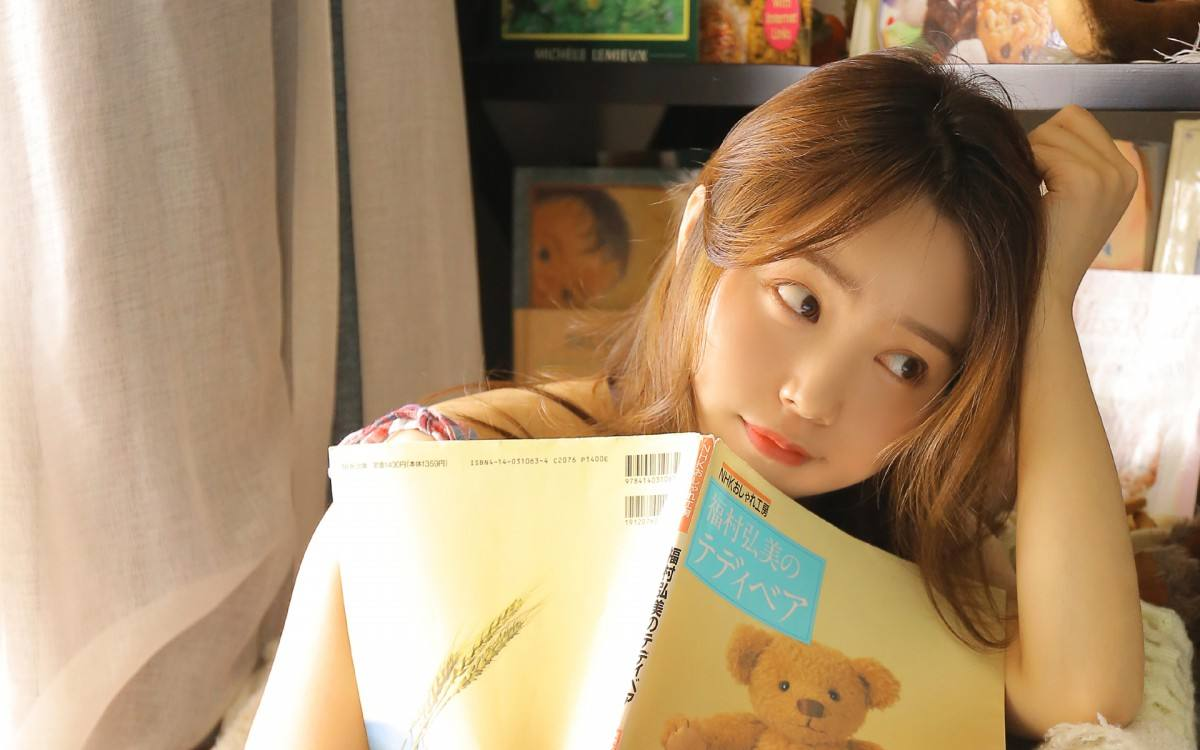person: (409, 40, 1141, 602)
